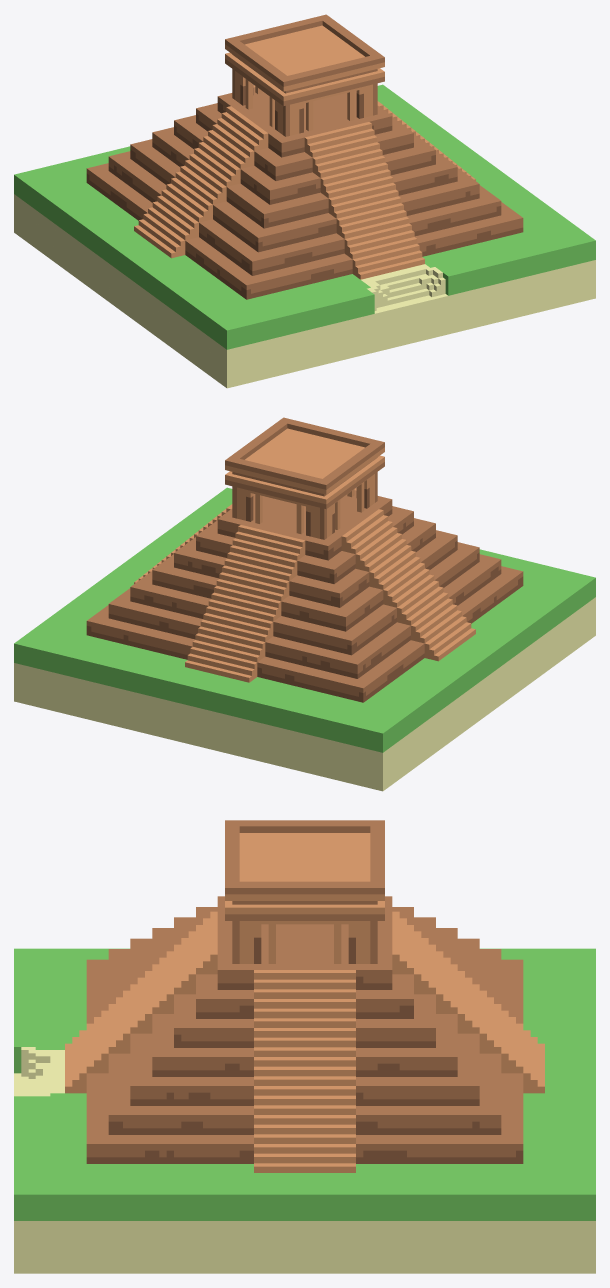
The model's file is Starting Tile.obj.
The picture shows the model from 3 angles, top to bottom: view 1: azimuth 30°, elevation 25°; view 2: azimuth 150°, elevation 25°; view 3: azimuth 270°, elevation 25°; orthographic projection. The views are drawn at different scales.
Size of the model in its own units: 8 by 4.5 by 8.
1 material, 1 textured.
